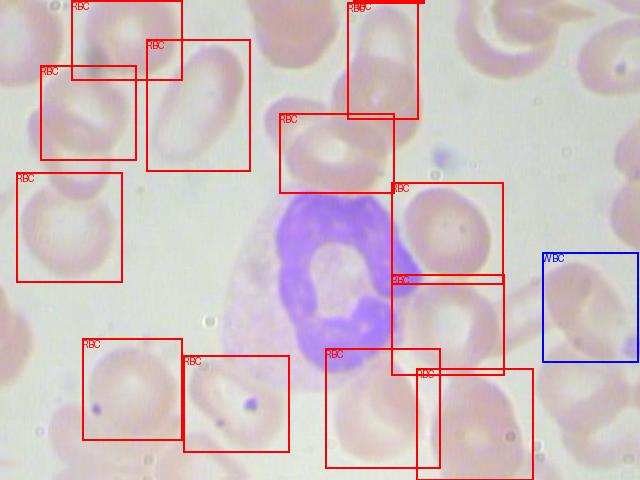RBC: (325, 348, 440, 468), (146, 39, 250, 171), (416, 368, 533, 480), (16, 172, 122, 282), (391, 182, 503, 284), (391, 274, 504, 375), (183, 355, 289, 452), (82, 338, 182, 440), (279, 113, 394, 193), (40, 65, 136, 160), (71, 0, 182, 80), (347, 2, 418, 119), (353, 0, 424, 3)
WBC: (542, 252, 638, 362)
